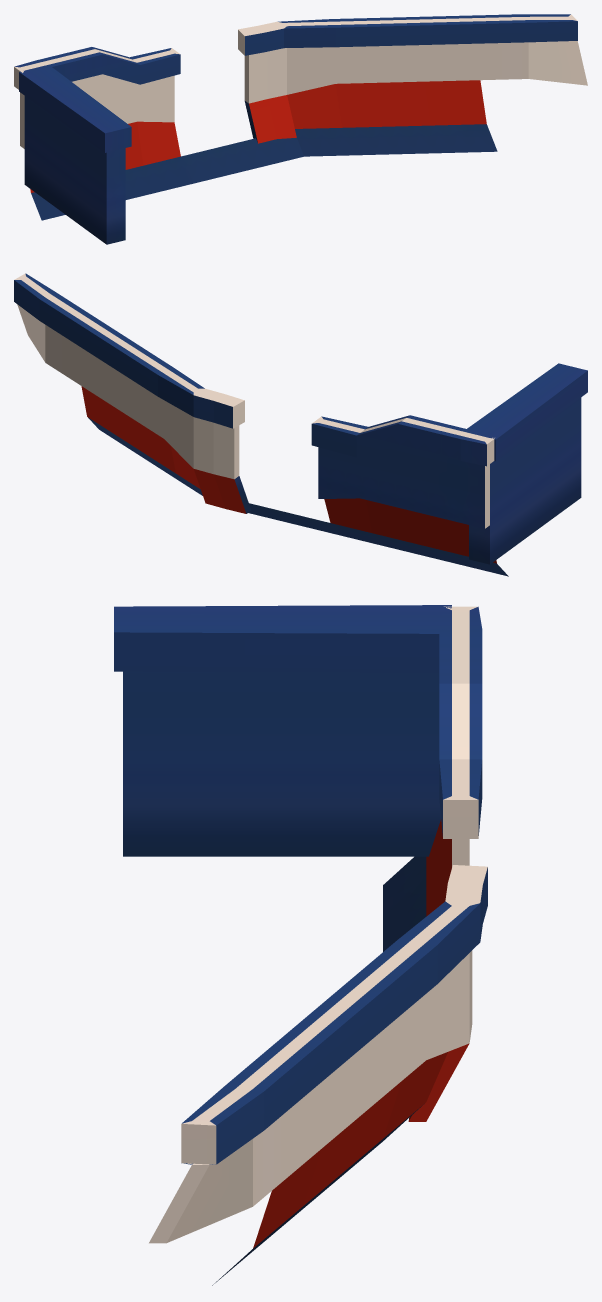
File: Lateral_Direita.glb
The picture shows the model from 3 angles, top to bottom: view 1: azimuth 30°, elevation 25°; view 2: azimuth 150°, elevation 25°; view 3: azimuth 270°, elevation 25°; orthographic projection. The views are drawn at different scales.
Parts seen in each view (by area): view 1: Lateral_Direita; view 2: Lateral_Direita; view 3: Lateral_Direita.
Part boxes in pixels (x1,y1,x2,y2): Lateral_Direita: (14,14,587,244); Lateral_Direita: (14,273,587,576); Lateral_Direita: (114,605,487,1285).
Bounding box in the file's own units: 26.28 × 7 × 8.63.
1 material, 1 textured.
